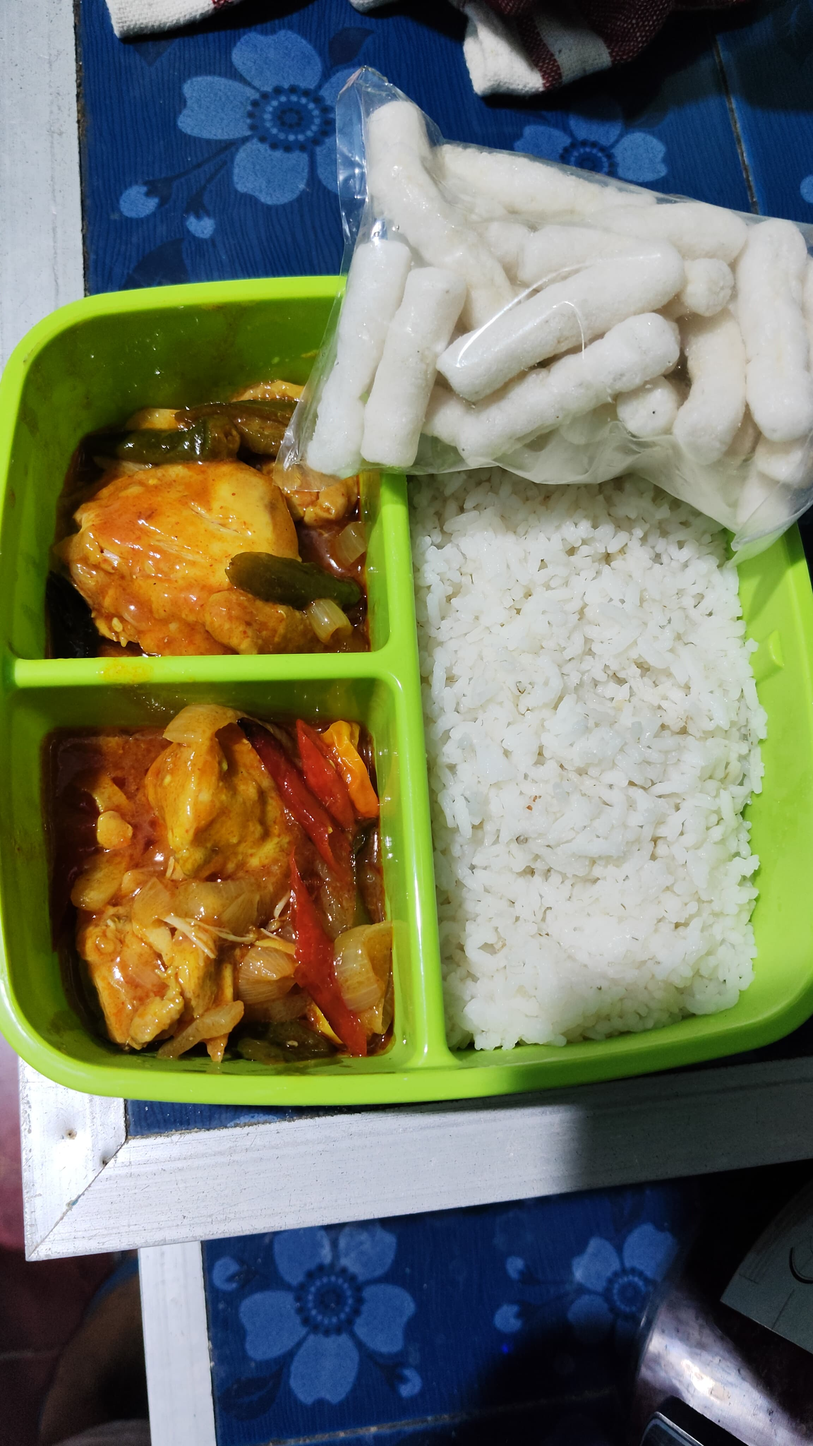makanan_berpati: (453, 512, 773, 1022)
